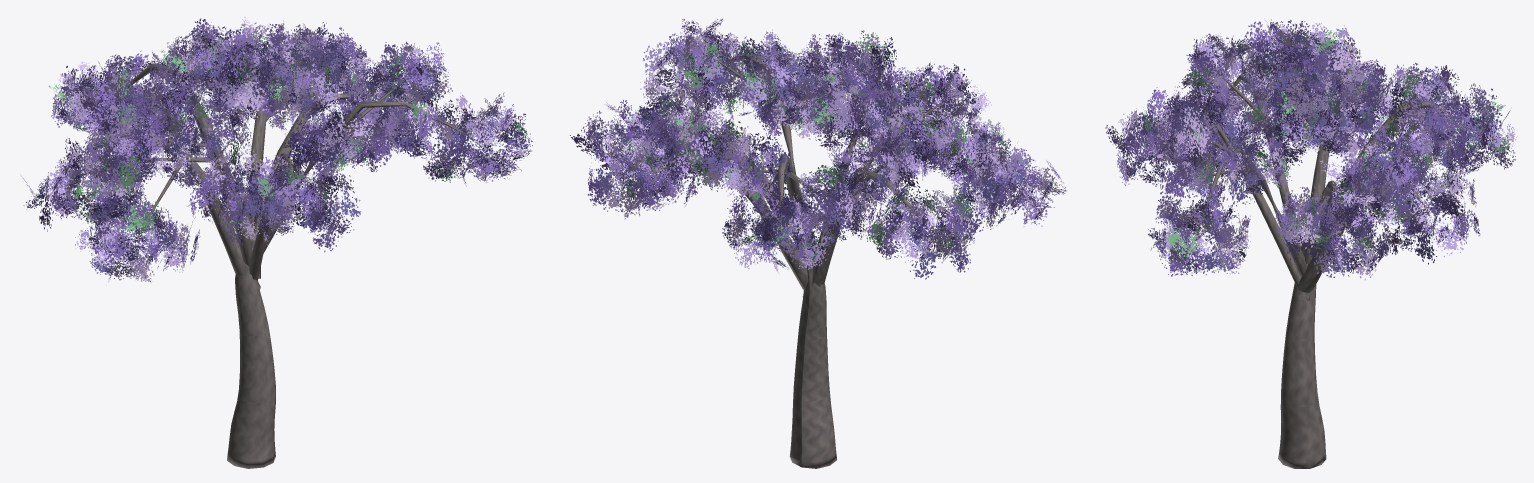
File: Tree_Jacaranda_02_Wide_Canopy.glb
3 views of the same model, side by side, from view 1: azimuth 30°, elevation 25°; view 2: azimuth 150°, elevation 25°; view 3: azimuth 270°, elevation 25° (orthographic). The views are drawn at different scales.
Visible parts, largest first — view 1: Tree_Jacaranda_02_Wide_Canopy; view 2: Tree_Jacaranda_02_Wide_Canopy; view 3: Tree_Jacaranda_02_Wide_Canopy.
Part boxes in pixels (<box>): Tree_Jacaranda_02_Wide_Canopy: <box>20,16,532,468</box>; Tree_Jacaranda_02_Wide_Canopy: <box>570,19,1066,468</box>; Tree_Jacaranda_02_Wide_Canopy: <box>1105,19,1517,468</box>.
Size of the model in its own units: 9.98 by 9.15 by 8.4.
Materials: 2 (2 with a texture image).
